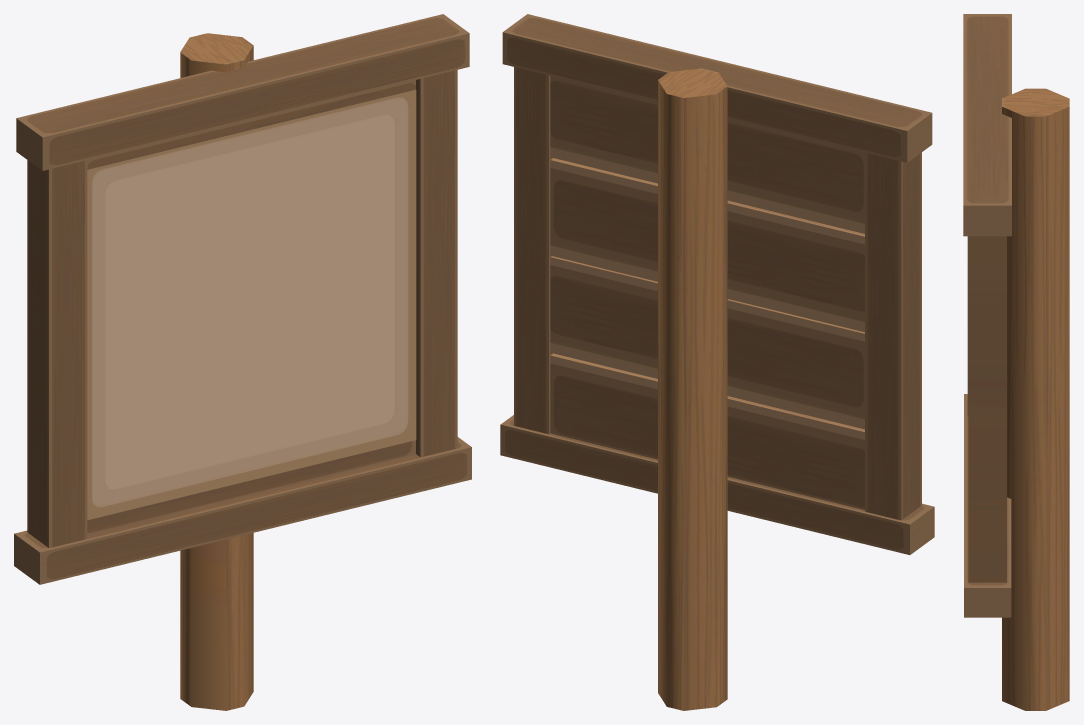
The model's file is WoodenItemSignHand.fbx.
The picture shows the model from 3 angles, left to right: view 1: azimuth 30°, elevation 25°; view 2: azimuth 150°, elevation 25°; view 3: azimuth 270°, elevation 25°; orthographic projection. The views are drawn at different scales.
Parts seen in each view (by area): view 1: crate; view 2: crate; view 3: crate.
Boxes of the visible parts, box(x1,y1,x2,y2) form: crate: box(14, 14, 471, 710); crate: box(500, 14, 934, 710); crate: box(963, 14, 1069, 710).
Bounding box in the file's own units: 0.76 × 1.09 × 0.1758.
